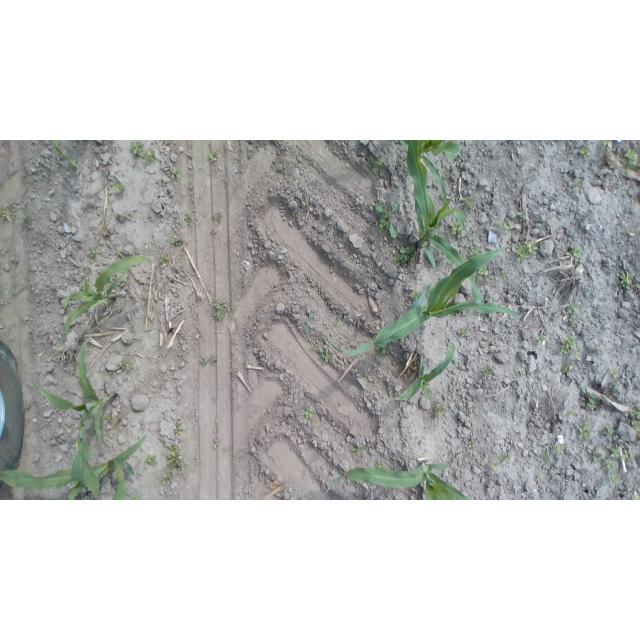Maize: (329, 242, 523, 358), (34, 332, 119, 499), (0, 432, 152, 500), (413, 184, 485, 321), (56, 254, 153, 342), (322, 460, 473, 501), (399, 140, 461, 205), (397, 342, 459, 403)
Weeds: (376, 200, 403, 241), (395, 244, 420, 269), (1, 202, 32, 222), (603, 458, 621, 489), (582, 388, 603, 413), (210, 297, 230, 323), (311, 341, 334, 363), (560, 336, 581, 359), (516, 242, 539, 262), (578, 417, 595, 442), (563, 244, 584, 264), (609, 442, 631, 461), (168, 443, 184, 469), (624, 148, 640, 173), (607, 366, 622, 388), (303, 310, 316, 335), (366, 155, 384, 173), (432, 403, 448, 422), (449, 220, 467, 236), (109, 177, 126, 193), (620, 272, 634, 291), (567, 302, 578, 326), (118, 357, 136, 371), (632, 403, 640, 434), (468, 246, 483, 262), (571, 176, 586, 192), (499, 219, 516, 233), (303, 403, 316, 421), (602, 425, 617, 440), (479, 364, 495, 378), (590, 449, 603, 466), (540, 447, 553, 464), (199, 356, 218, 367), (170, 234, 186, 247), (208, 149, 222, 163), (533, 333, 548, 346), (502, 452, 517, 465), (172, 421, 185, 436), (163, 471, 176, 486), (129, 142, 144, 155), (144, 453, 157, 467), (211, 211, 224, 225), (142, 151, 156, 164), (462, 196, 475, 210), (379, 344, 391, 359), (88, 246, 100, 261), (168, 168, 181, 181), (184, 214, 196, 228), (596, 141, 614, 150), (554, 440, 566, 453), (559, 363, 573, 374), (373, 460, 387, 471), (280, 263, 291, 277), (160, 254, 172, 266), (352, 443, 365, 454), (459, 327, 471, 338), (578, 148, 591, 158), (594, 343, 605, 354), (517, 368, 528, 379), (490, 460, 502, 470), (464, 442, 477, 451), (492, 197, 501, 210), (567, 409, 577, 420), (102, 226, 113, 236), (476, 267, 488, 276), (104, 411, 113, 423), (361, 372, 369, 385), (413, 289, 421, 302), (534, 475, 546, 482), (630, 493, 640, 500)
